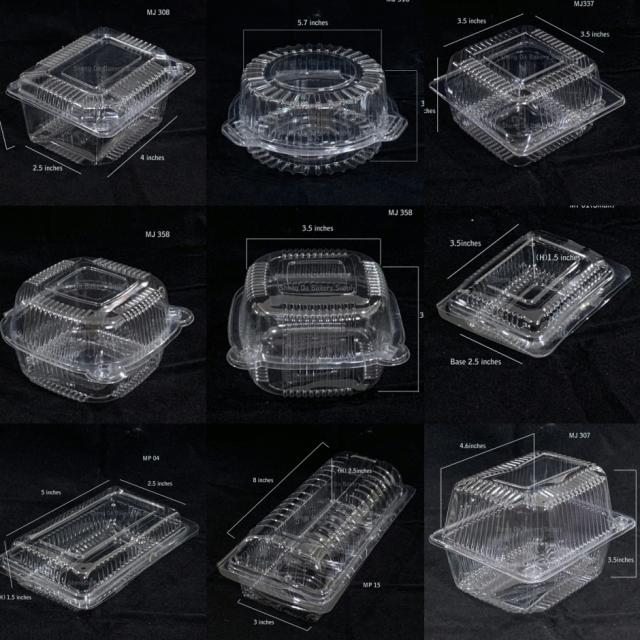plastik: (429, 451, 636, 613), (218, 452, 415, 620), (0, 257, 194, 402), (430, 26, 625, 166), (227, 249, 410, 397), (6, 27, 195, 165), (0, 486, 199, 610), (437, 232, 631, 357), (222, 45, 407, 174)
